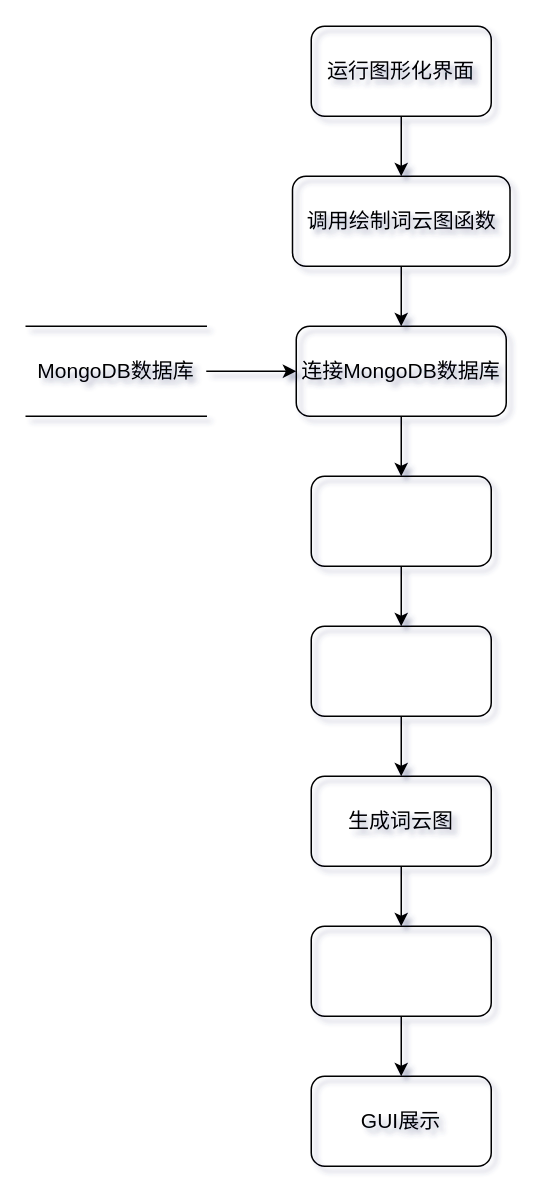
This 546x1202 diagram has some shape labels left out. The box of each missing label's shape, as (x1, y1, x2, y2) in pixels:
保存词云图: (310, 925, 491, 1016)
数据预处理: (310, 625, 491, 716)
查询评论数据: (310, 475, 491, 566)
